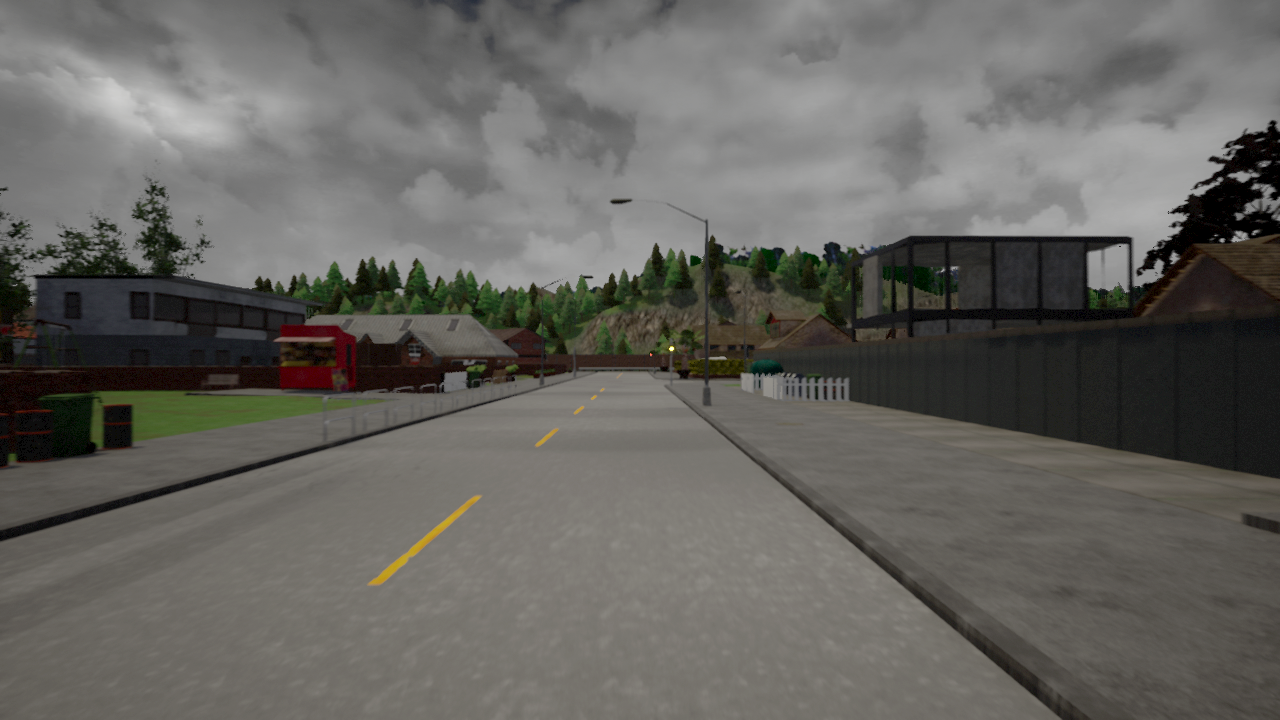yellow: (668, 342, 675, 357)
